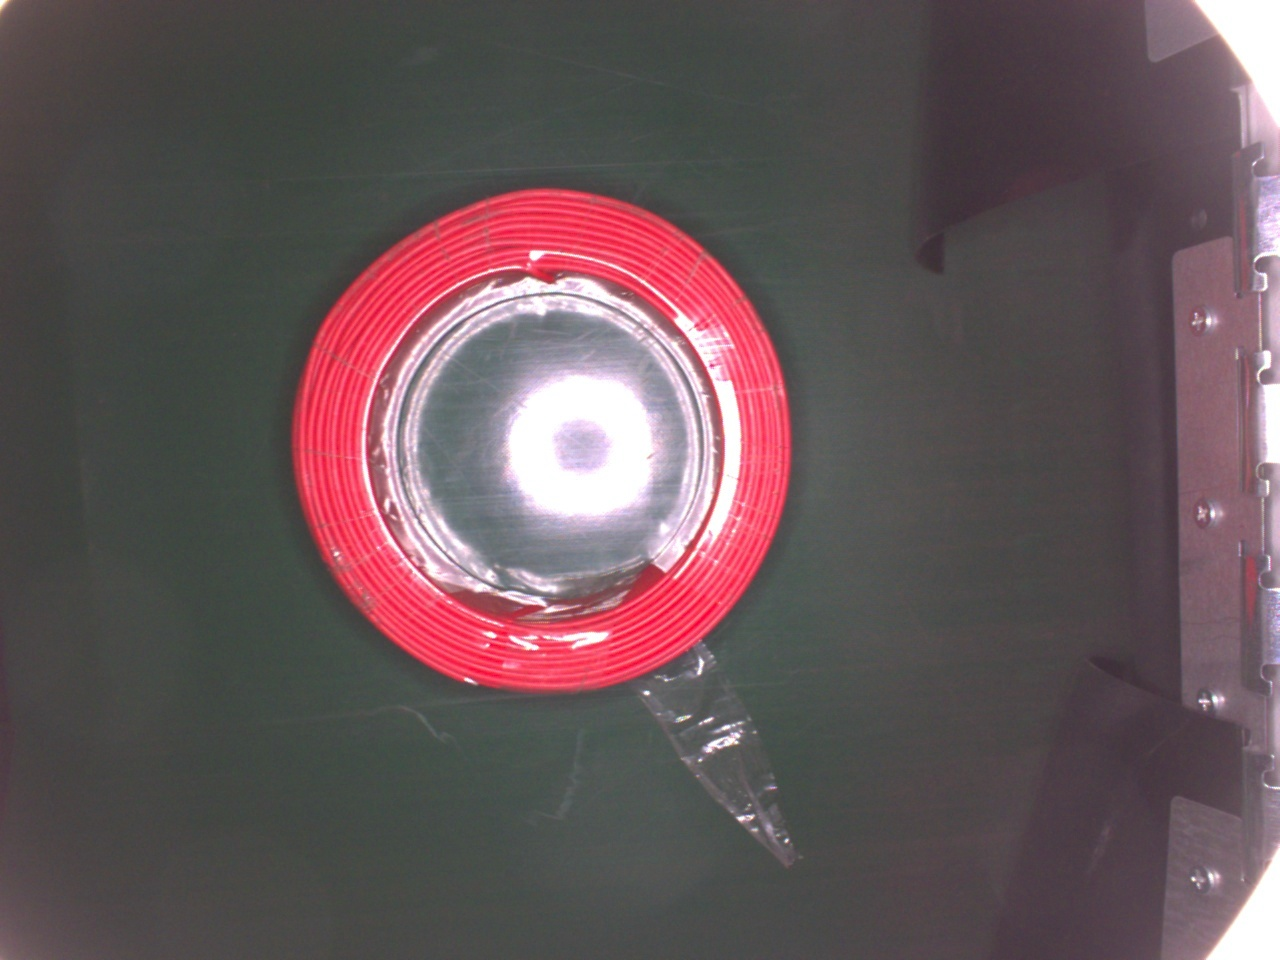red: (291, 186, 792, 696)
